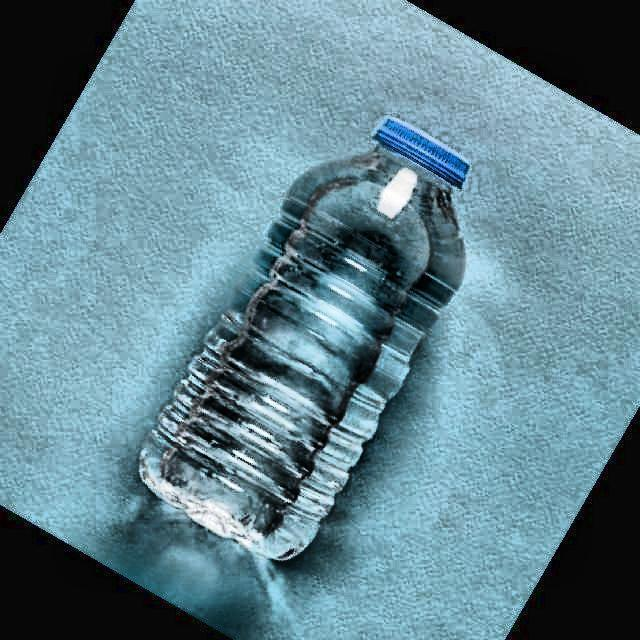plastic: (140, 119, 469, 560)
